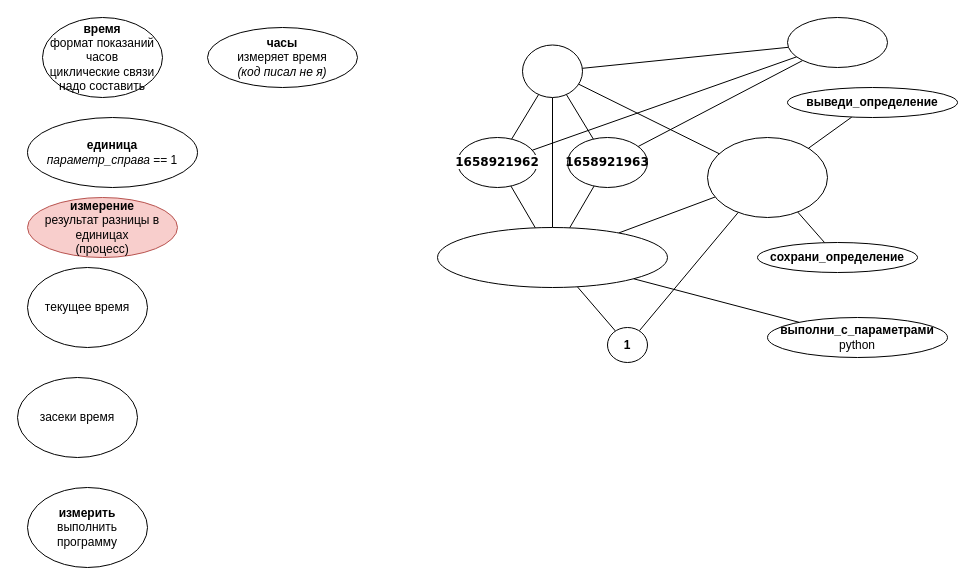
This 975x585 diagram has some shape labels left out. Each missing label, with the box of its shape:
время: (522, 44, 582, 98)
разница параметр_слева - параметр_справа: (436, 226, 668, 288)
секунда 1 разница время: (706, 136, 828, 218)
сохрани_узлы python: (786, 16, 888, 68)
